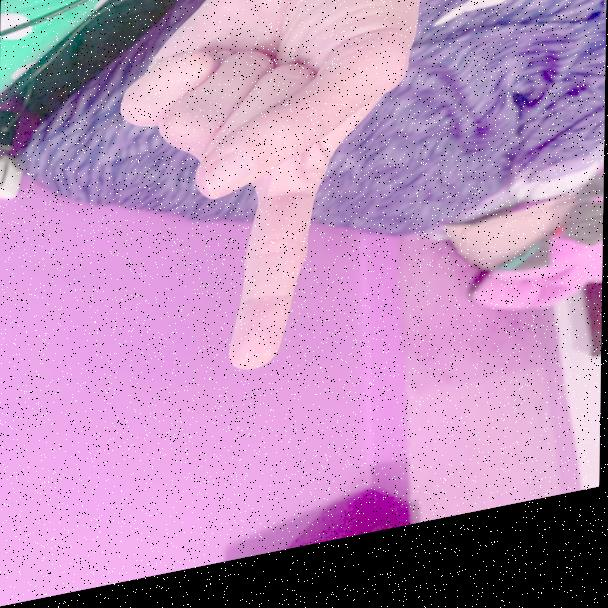one: (116, 0, 403, 405)
